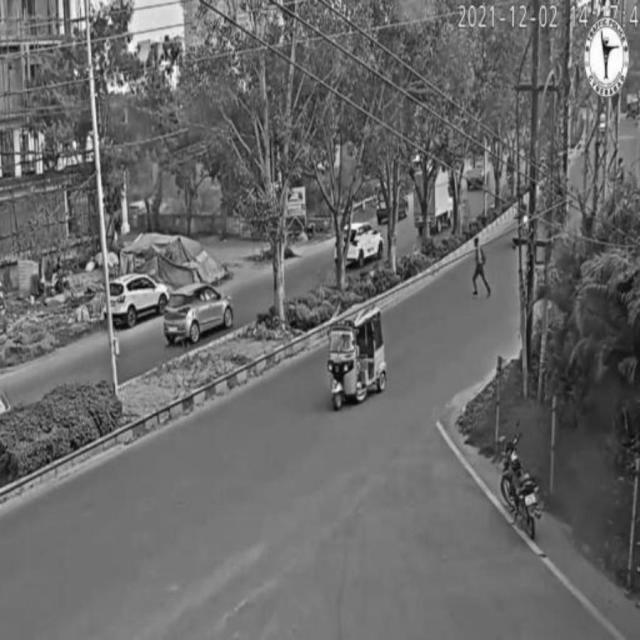person: (469, 233, 495, 300)
vehicle: (326, 304, 387, 410), (498, 433, 544, 554), (162, 284, 233, 351), (104, 268, 170, 323), (332, 219, 386, 263)
